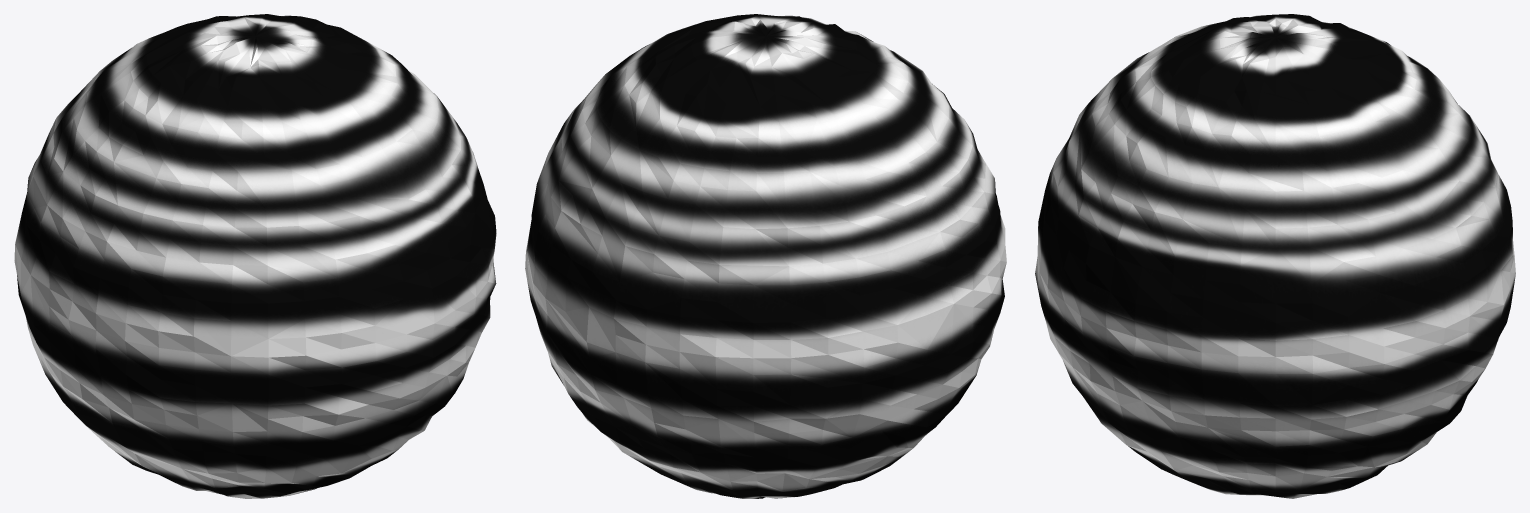
File: SM_Env_Planet_14.fbx
The picture shows the model from 3 angles, left to right: view 1: azimuth 30°, elevation 25°; view 2: azimuth 150°, elevation 25°; view 3: azimuth 270°, elevation 25°; orthographic projection.
Parts seen in each view (by area): view 1: SM_Env_Planet_14_LOD0; view 2: SM_Env_Planet_14_LOD0; view 3: SM_Env_Planet_14_LOD0.
Boxes of the visible parts, x1,y1,x2,y2 form: SM_Env_Planet_14_LOD0: (14,14,496,498); SM_Env_Planet_14_LOD0: (525,14,1006,498); SM_Env_Planet_14_LOD0: (1035,14,1515,498).
Bounding box in the file's own units: 70105 × 69834 × 70846.
Materials: 1 (1 with a texture image).
